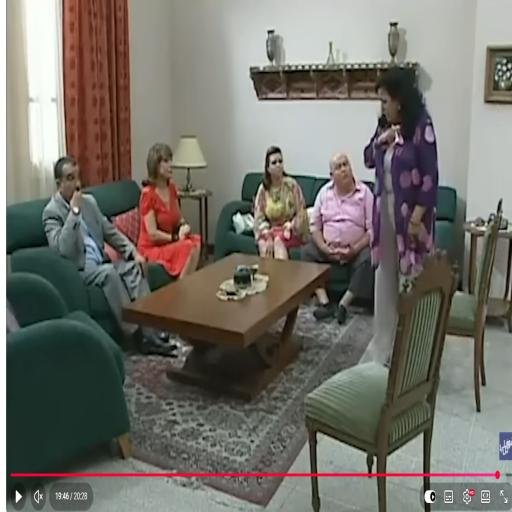jannet: (376, 66, 427, 140)
sboui: (330, 152, 356, 196)
slimane: (54, 156, 84, 210)
